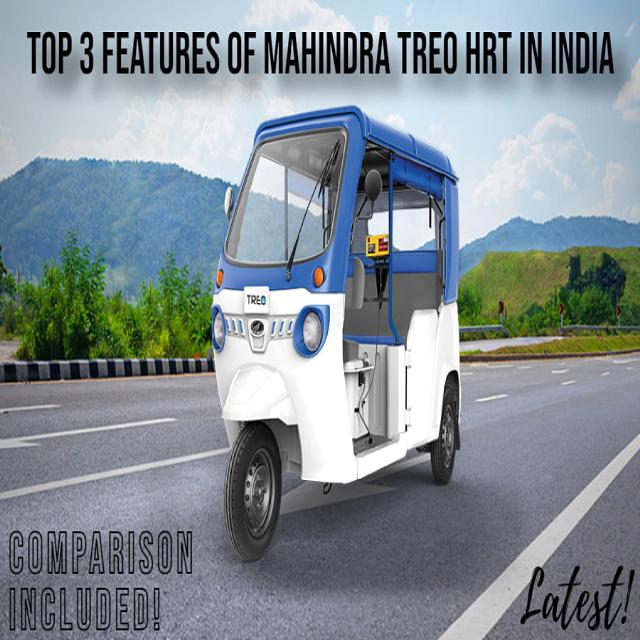autorickshaw: (211, 107, 460, 562)
